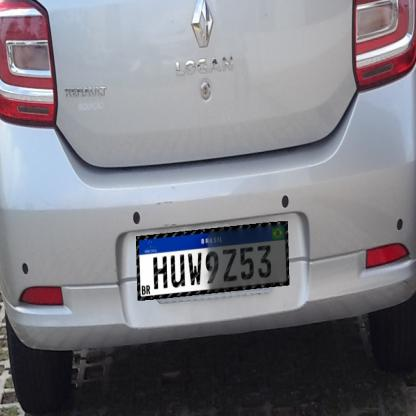PlacaM: (136, 221, 289, 301)
